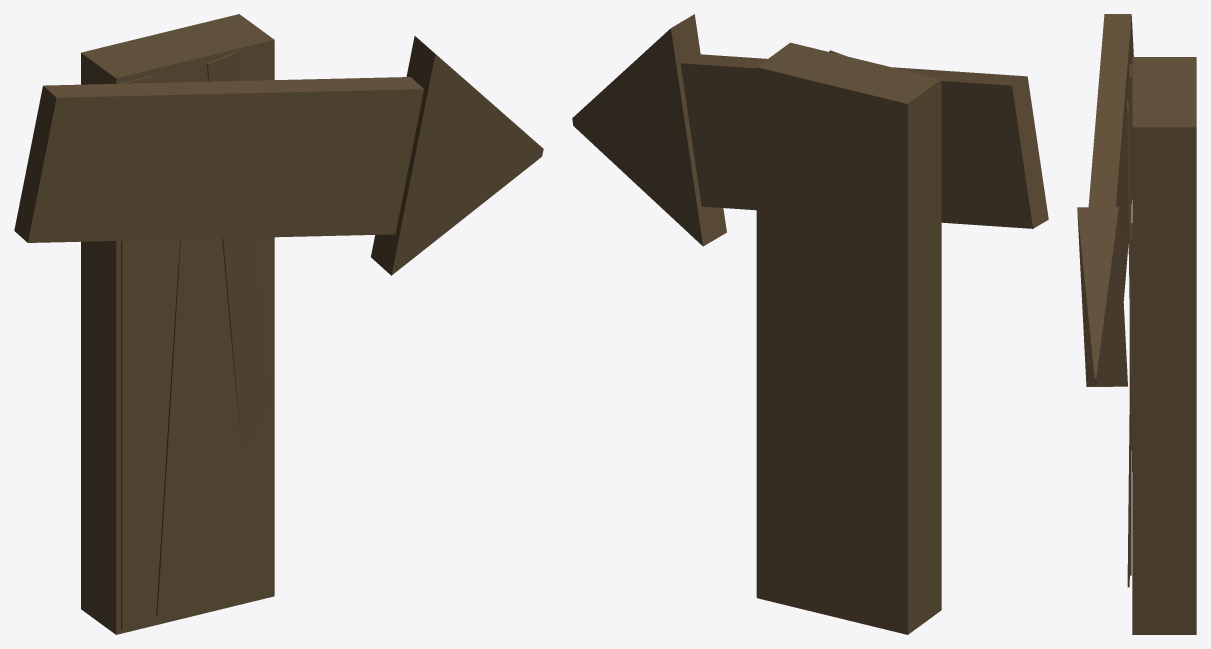
3 views of the same model, side by side, from view 1: azimuth 30°, elevation 25°; view 2: azimuth 150°, elevation 25°; view 3: azimuth 270°, elevation 25° (orthographic). The views are drawn at different scales.
Parts seen in each view (by area): view 1: Cube, Cube.001; view 2: Cube, Cube.001; view 3: Cube, Cube.001.
Part boxes in pixels (<box>): Cube: <box>81,14,274,634</box>; Cube.001: <box>14,36,543,275</box>; Cube: <box>756,42,941,634</box>; Cube.001: <box>572,14,1048,246</box>; Cube: <box>1126,57,1196,634</box>; Cube.001: <box>1077,14,1133,386</box>.
Bounding box in the file's own units: 191 × 204 × 42.69.
